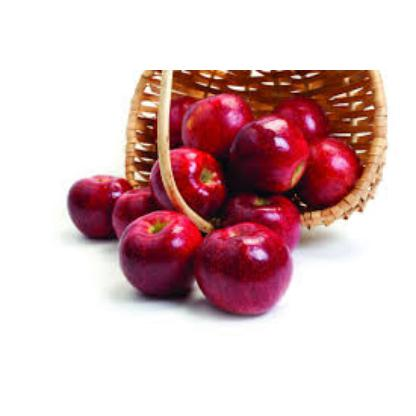apple: (212, 222, 284, 306), (127, 212, 196, 289), (156, 154, 222, 206), (184, 102, 244, 134)
